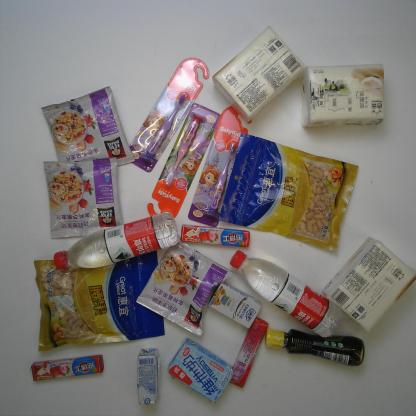Candy: (229, 317, 269, 388), (30, 354, 104, 381), (180, 224, 250, 247)
Dried Fruit: (218, 134, 359, 252), (33, 249, 165, 352)
Drink: (228, 249, 342, 339), (53, 211, 182, 271)
Instant Drink: (136, 240, 234, 336), (40, 85, 136, 167), (42, 158, 124, 240)
Milk: (166, 337, 234, 404), (209, 282, 262, 328), (138, 348, 161, 404)
Personal Hygiene: (127, 57, 210, 173), (147, 103, 221, 220), (187, 105, 253, 228)
Seasoner: (264, 328, 365, 367)
Tissue: (212, 24, 306, 124), (320, 236, 416, 333), (302, 65, 385, 128)
